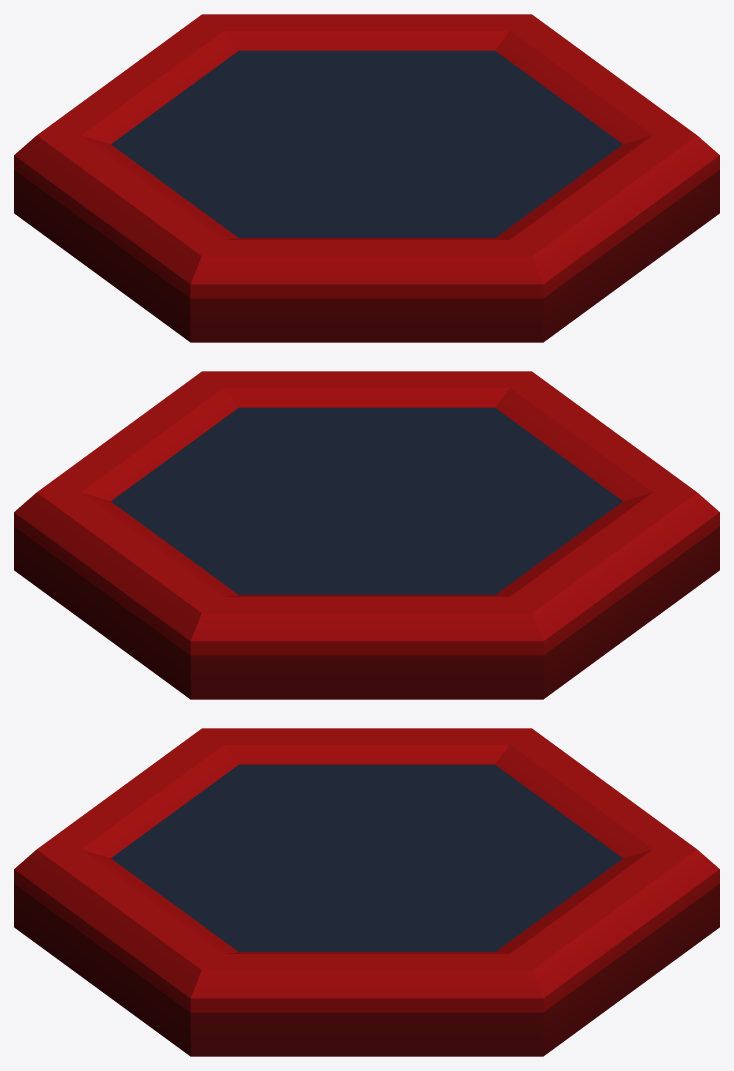
Rendered from Hexagon 07.FBX.
3 views of the same model, one above another, from view 1: azimuth 30°, elevation 25°; view 2: azimuth 150°, elevation 25°; view 3: azimuth 270°, elevation 25° (orthographic).
Visible parts, largest first — view 1: Hexagon 07; view 2: Hexagon 07; view 3: Hexagon 07.
Part boxes in pixels (left/top/right/bottom): Hexagon 07: left=14, top=14, right=719, bottom=342; Hexagon 07: left=14, top=371, right=719, bottom=699; Hexagon 07: left=14, top=728, right=719, bottom=1056.
Size of the model in its own units: 280 by 39.42 by 323.
1 material, 1 textured.
